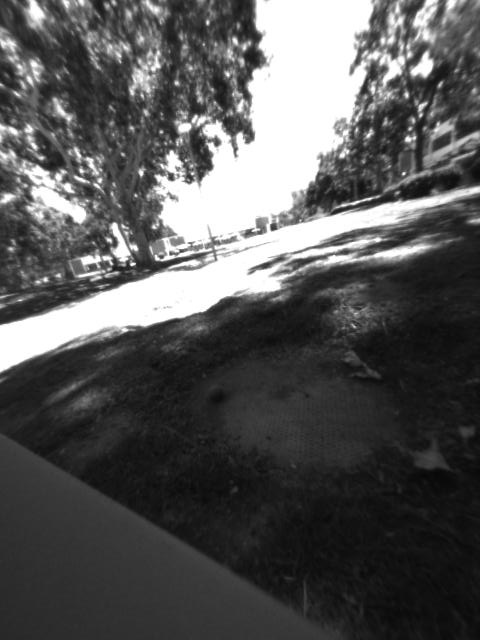dogtoy: (198, 375, 235, 411)
